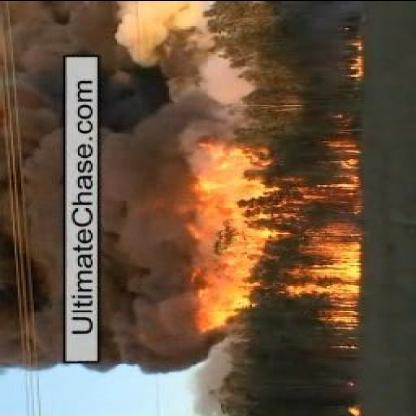-: (102, 55, 192, 366), (6, 69, 56, 356)
foggia-v2-map80-epoch100 - v1 4323: (312, 243, 362, 278)
